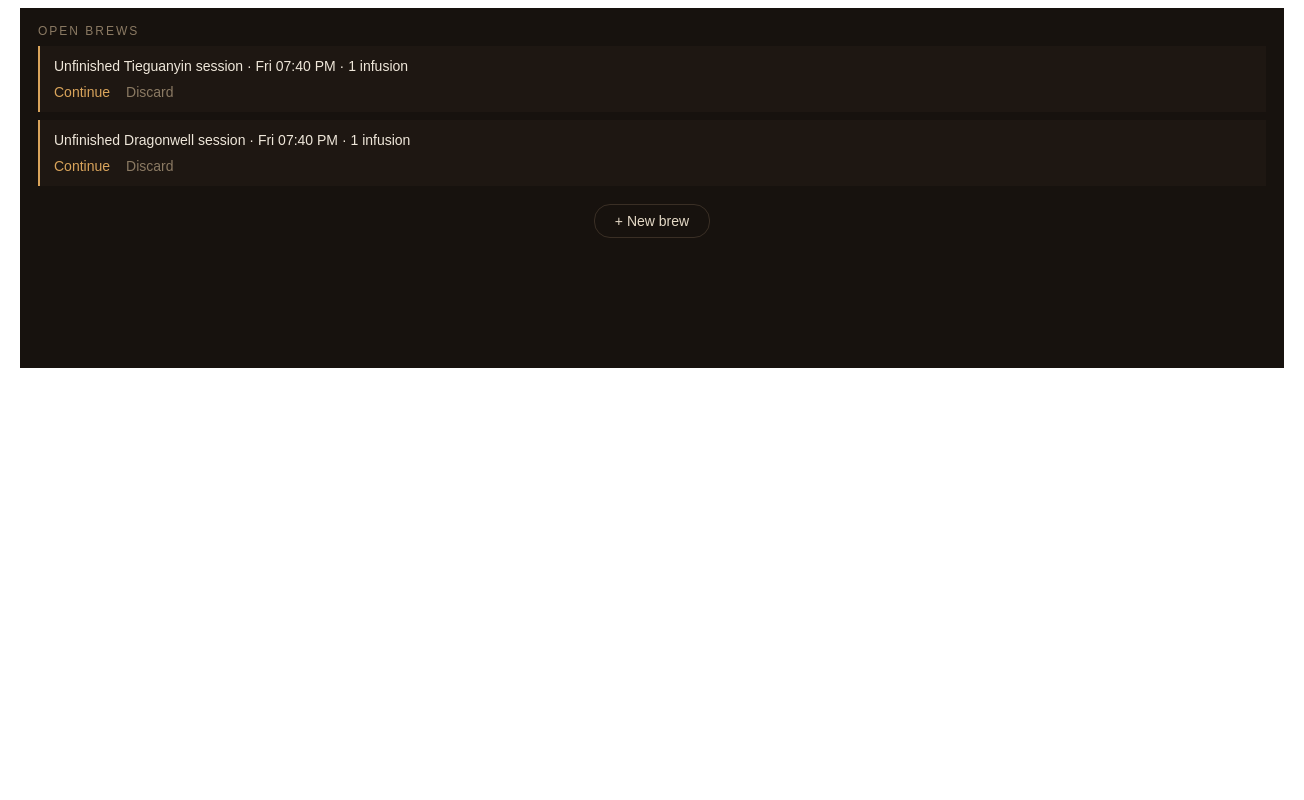
Test: TimerPage › shows a picker of open sessions instead of the timer when nothing is live
Expected: the number of elements with test id "recovery-card" is 2, [38,46,1266,112]; [38,120,1266,186]
What coordinates should you click on to do the following:
click the button with test id "timer-new-brew"
I would click on:
 (652, 221)
Its box is [594,204,710,238].
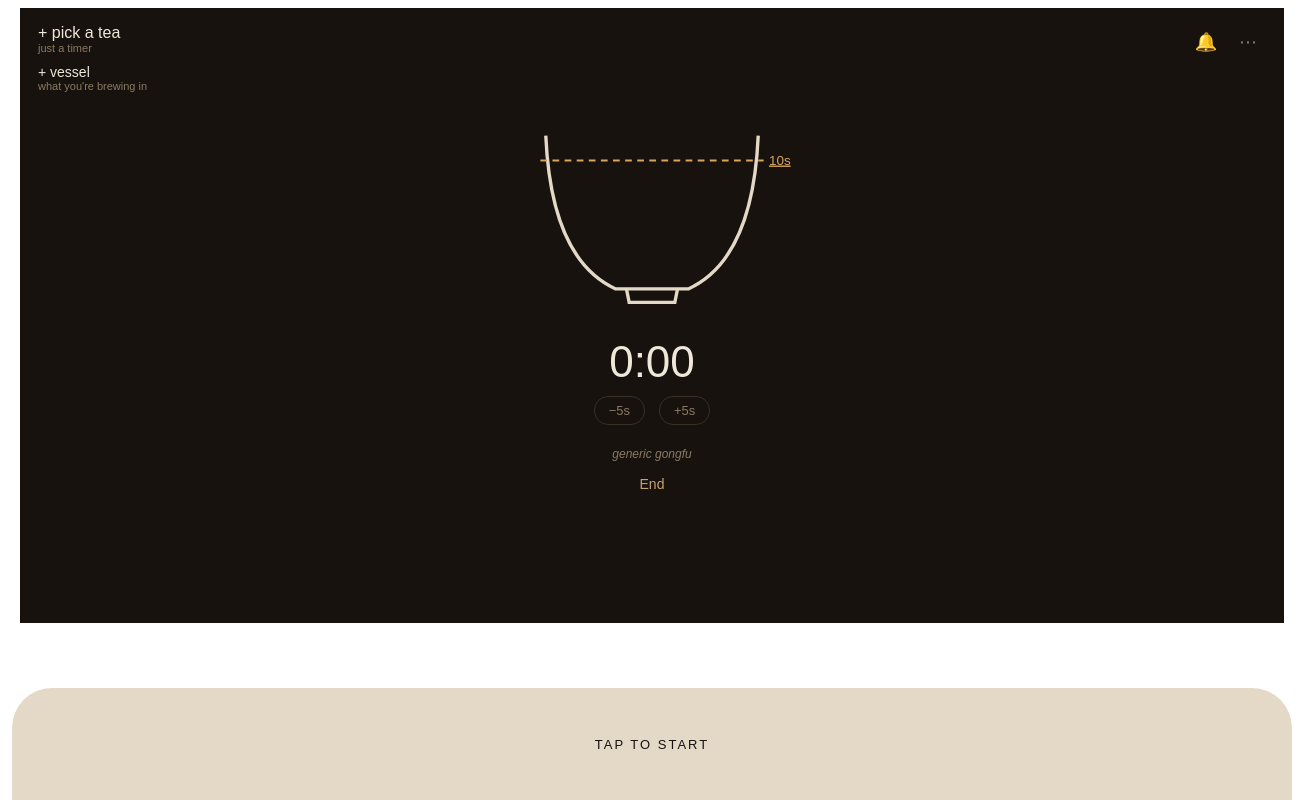
Expected: the button with test id "timer-band" reads "tap to start", [12,688,1292,799]
